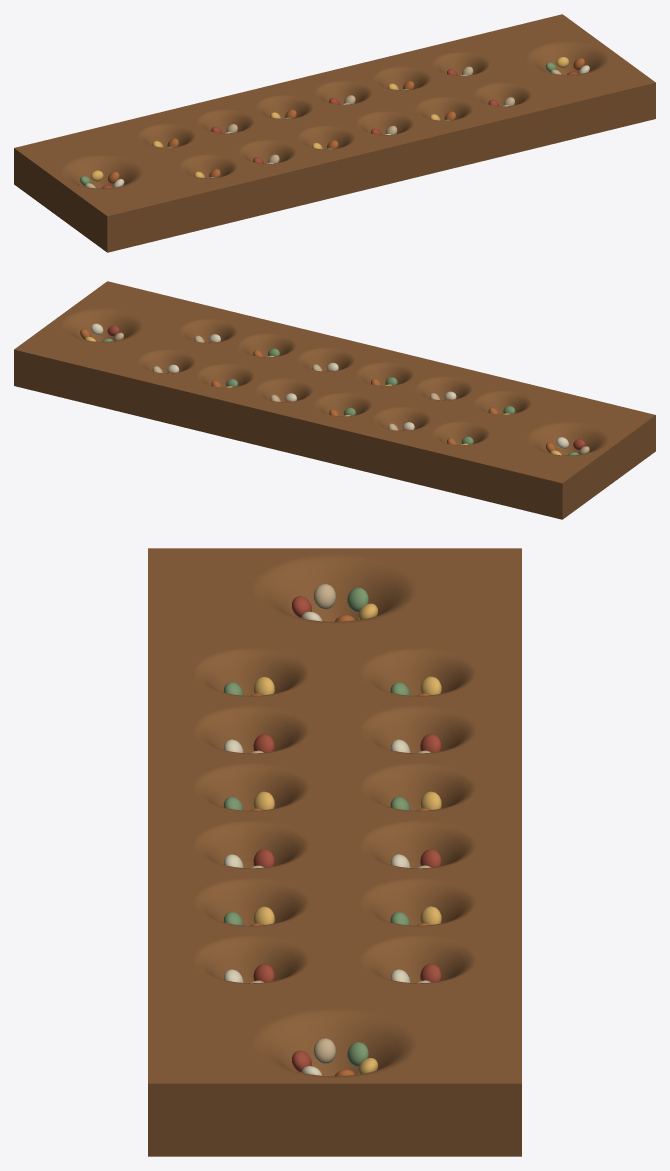
3 views of the same model, one above another, from view 1: azimuth 30°, elevation 25°; view 2: azimuth 150°, elevation 25°; view 3: azimuth 270°, elevation 25° (orthographic). The views are drawn at different scales.
Visible parts, largest first — view 1: Whole solid mancala board; view 2: Whole solid mancala board; view 3: Whole solid mancala board.
Part boxes in pixels (x1,y1,x2,y2): Whole solid mancala board: (14, 14, 655, 252); Whole solid mancala board: (14, 281, 655, 519); Whole solid mancala board: (148, 548, 521, 1156).
Bounding box in the file's own units: 0.41 × 0.026 × 0.121.
